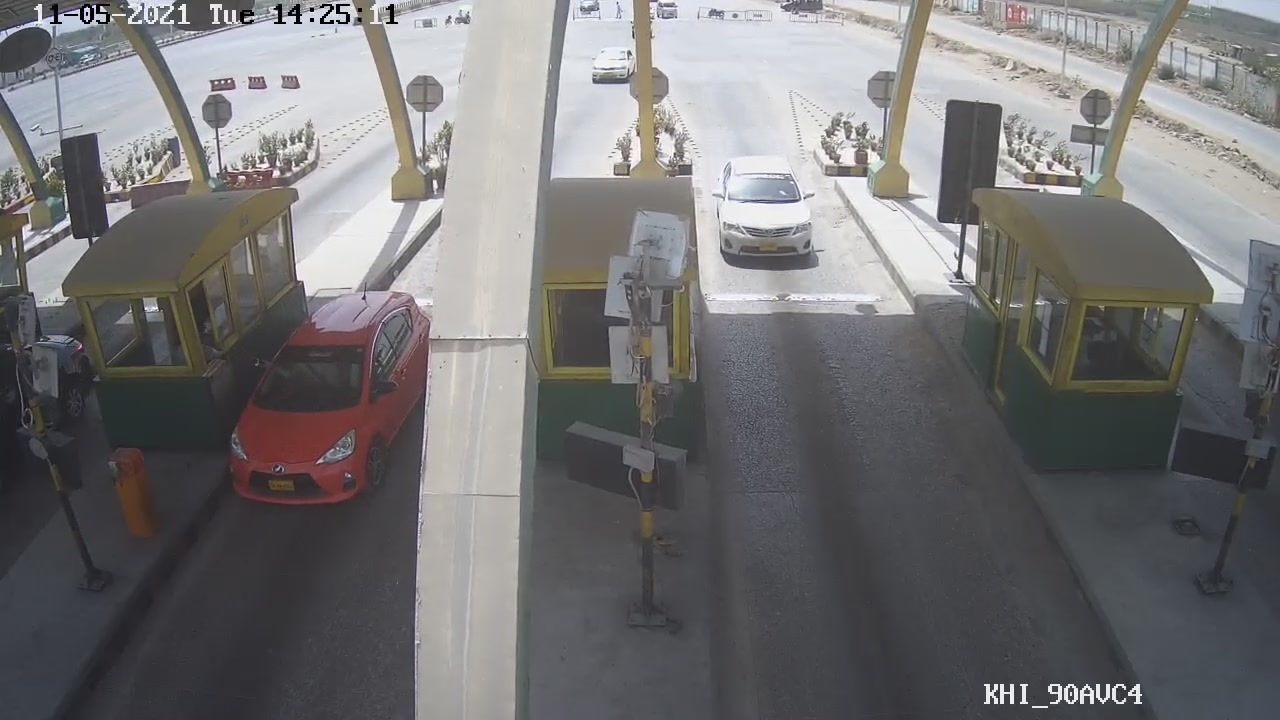F1: (713, 154, 826, 287)
